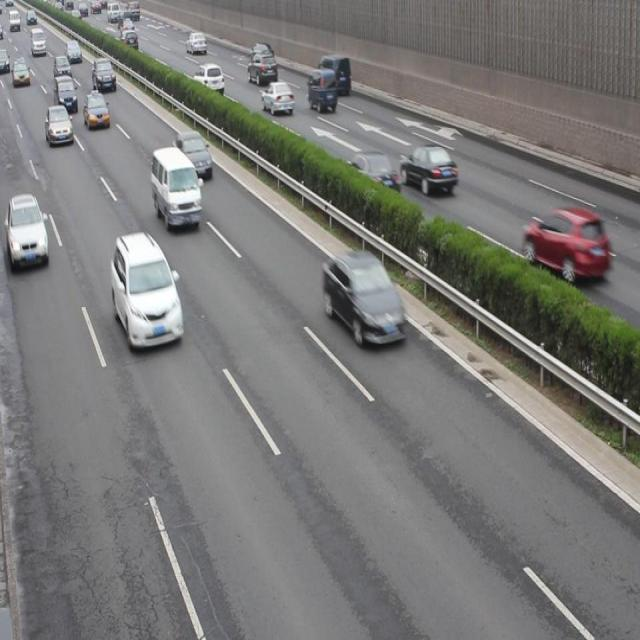car: (322, 251, 407, 348), (112, 234, 184, 348), (523, 206, 606, 282), (1, 196, 49, 266), (400, 146, 457, 194), (348, 152, 400, 198), (174, 132, 213, 180), (307, 69, 337, 114), (46, 107, 74, 147), (261, 82, 294, 115), (84, 91, 110, 129), (194, 64, 224, 95), (248, 52, 277, 84), (55, 76, 78, 114), (92, 59, 116, 92), (12, 58, 30, 88), (250, 44, 274, 64), (54, 55, 72, 80), (186, 32, 207, 53), (119, 30, 138, 51), (65, 40, 82, 63), (1, 48, 10, 74)
truck: (150, 147, 202, 230), (316, 55, 351, 97)
